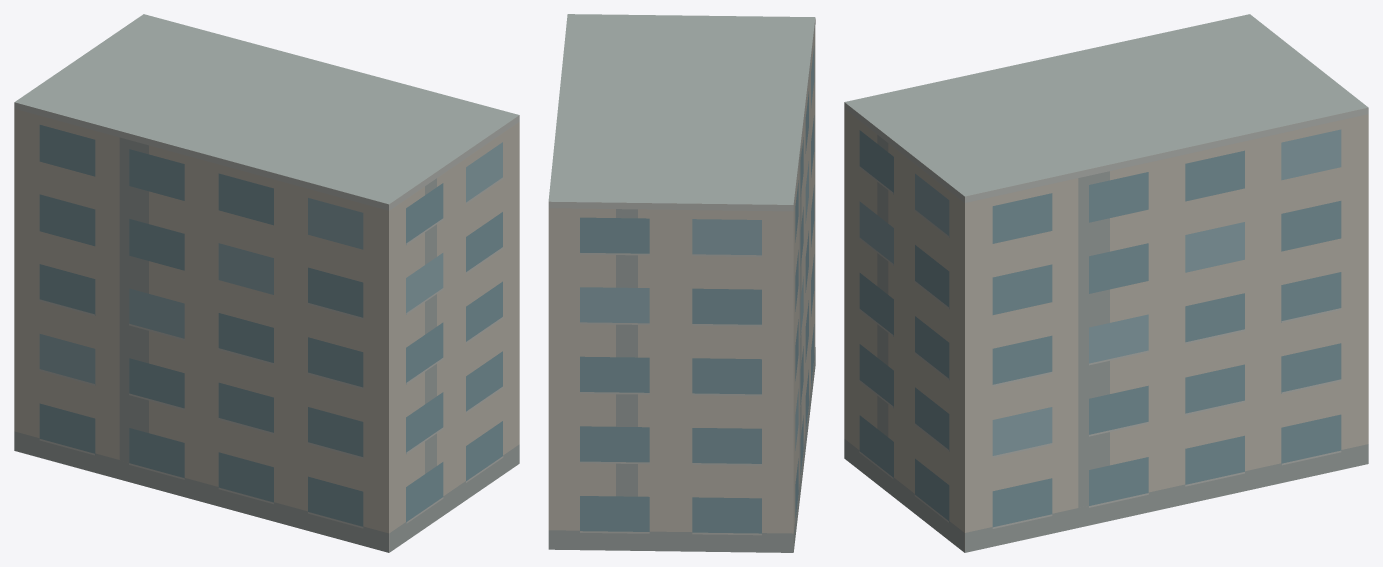
File: survey-upis-32887567.glb
The picture shows the model from 3 angles, left to right: view 1: azimuth 30°, elevation 25°; view 2: azimuth 150°, elevation 25°; view 3: azimuth 270°, elevation 25°; orthographic projection. The views are drawn at different scales.
Parts seen in each view (by area): view 1: survey-upis-32887567.tmp; view 2: survey-upis-32887567.tmp; view 3: survey-upis-32887567.tmp.
Boxes of the visible parts, <box> form: survey-upis-32887567.tmp: <box>14,14,519,552</box>; survey-upis-32887567.tmp: <box>548,14,815,552</box>; survey-upis-32887567.tmp: <box>844,14,1368,552</box>.
Bounding box in the file's own units: 14.51 × 13.2 × 17.61.
